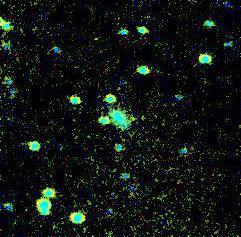star: (116, 103, 146, 133)
